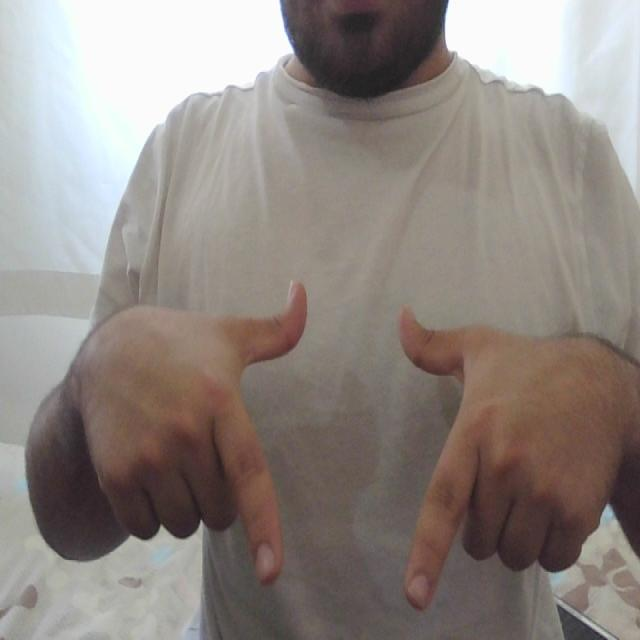Nerede: (201, 264, 505, 628)
